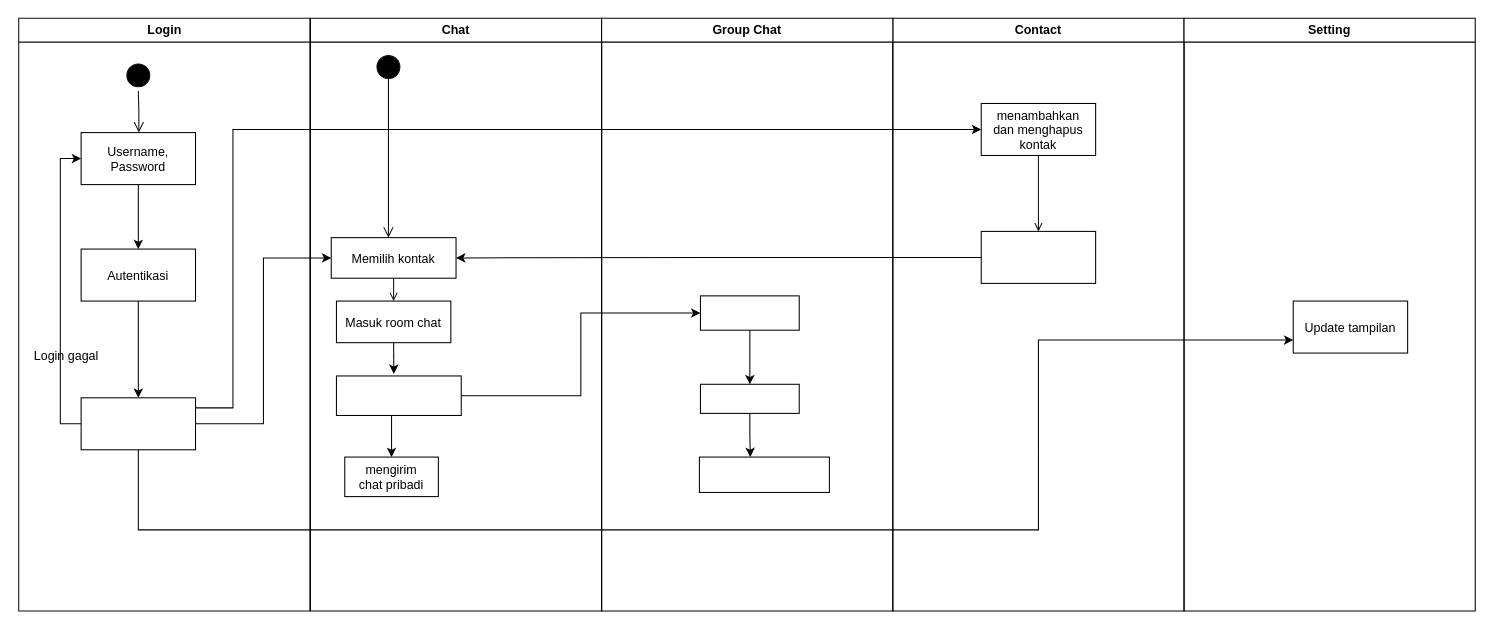
Some shapes in this 1493 by 629 pixel diagram are drawn without their labels. The centre of each missing label's shape, as x and y in pixels:
Login sukses: point 138,423
membuat grup: point 749,312
memilih chat pribadi/grup: point 398,395
menampilkan kontak: point 1038,256
Mengirim pesan grup: point 763,474
Tambah anggota: point 749,398
